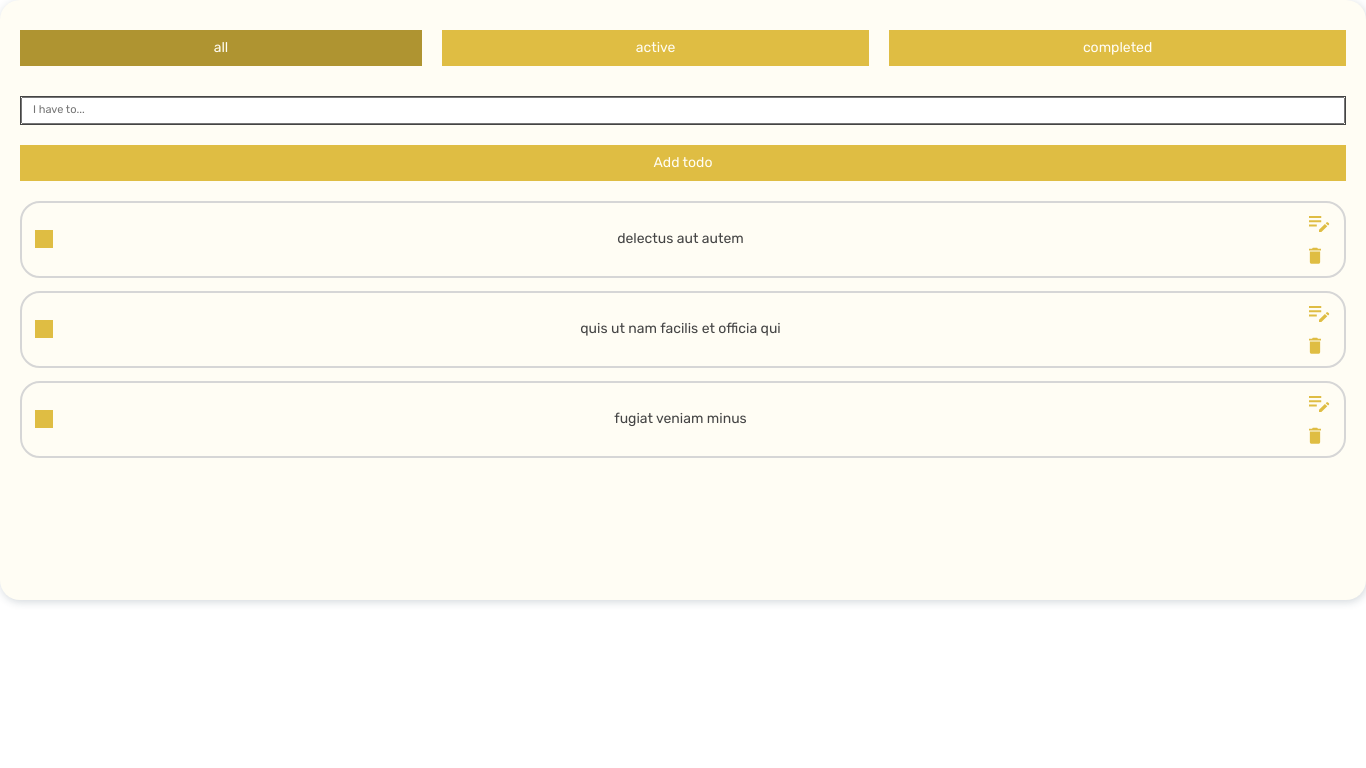
Scenario: Main › adds a new todo when the "Add" button is clicked
This screenshot has width=1366, height=768.
Type "New Todo" into the field with test id "create-input".
click(683, 110); type("New Todo")  # box x1=21 y1=97 x2=1345 y2=124
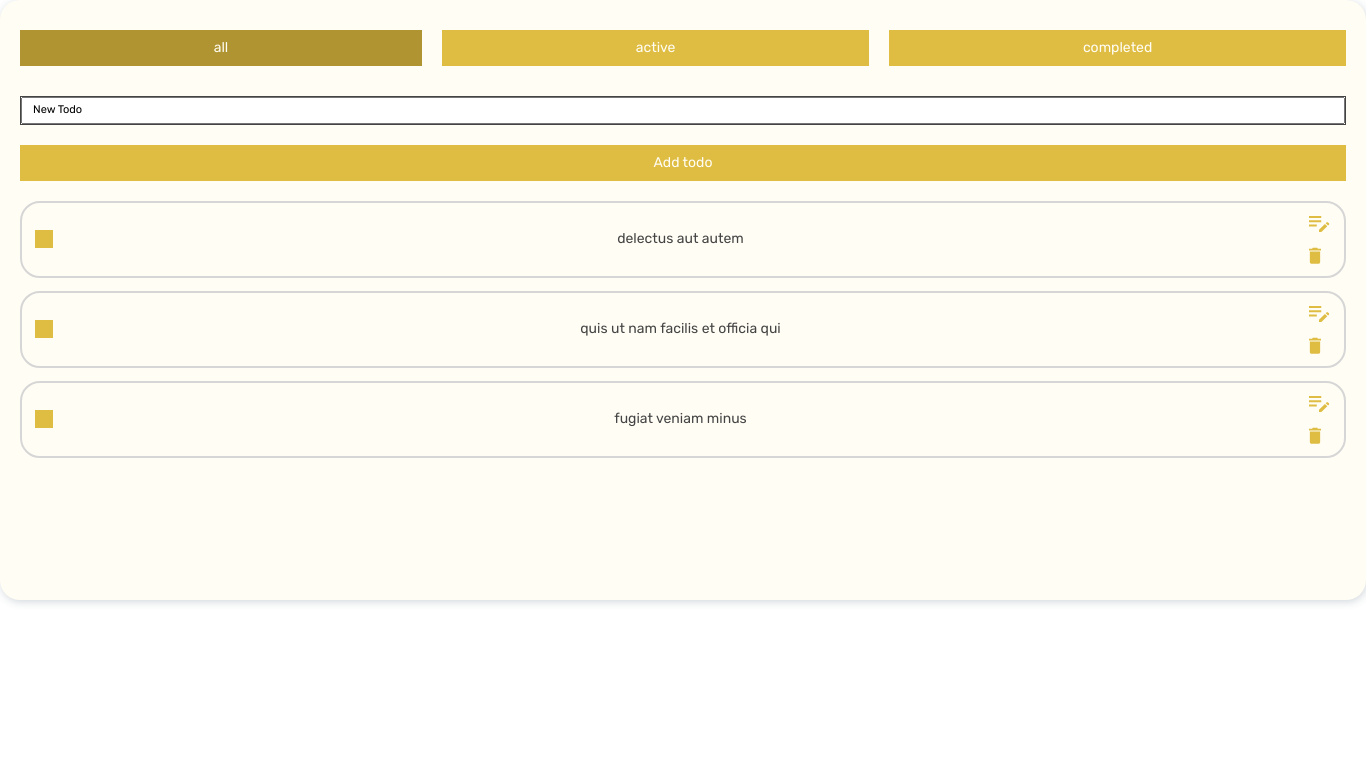
Click the button with test id "create-button".
click(683, 163)  # box x1=20 y1=145 x2=1346 y2=181
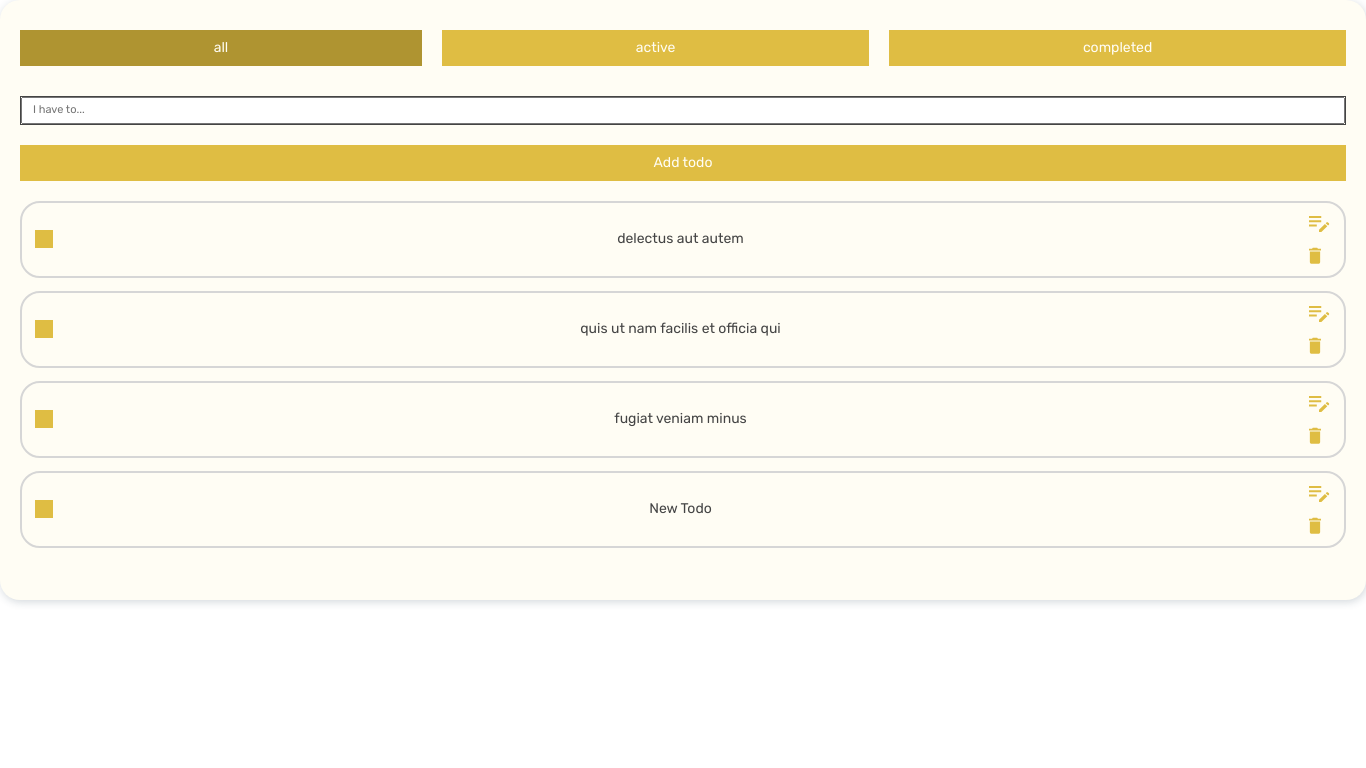
Result: the number of list items with test id "todo-item" is 4 at x1=20 y1=201 x2=1346 y2=278; x1=20 y1=291 x2=1346 y2=368; x1=20 y1=381 x2=1346 y2=458; x1=20 y1=471 x2=1346 y2=548
Result: the text "New Todo" is shown at x1=649 y1=501 x2=712 y2=517
